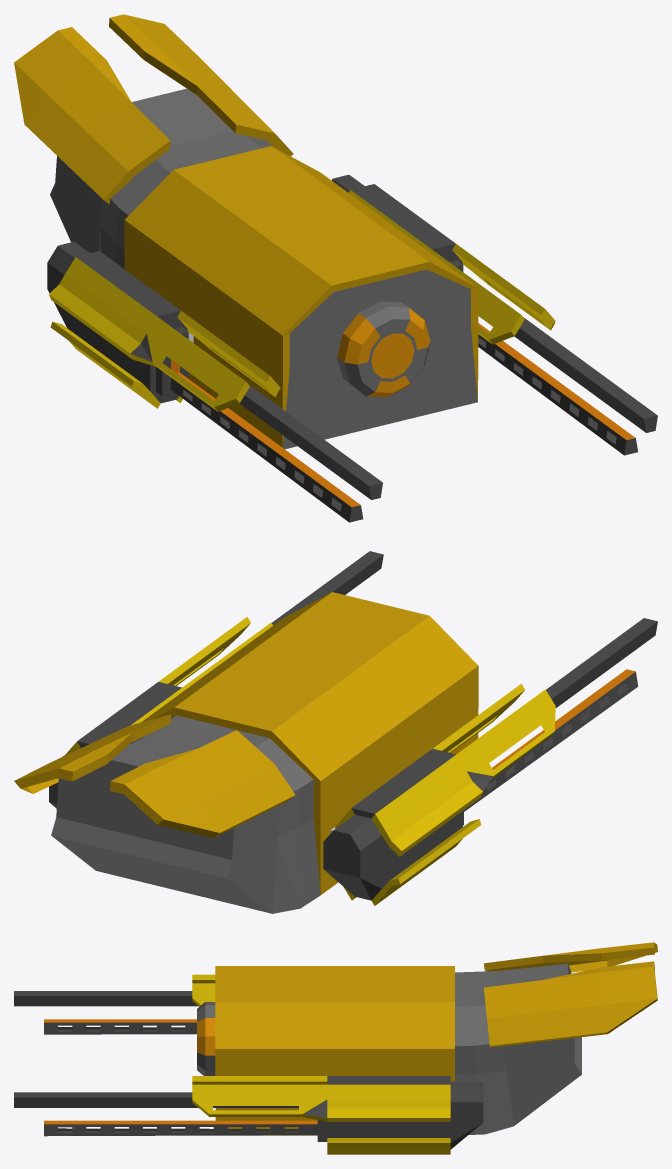
Rendered from EnemyStraightShot.fbx.
3 views of the same model, one above another, from view 1: azimuth 30°, elevation 25°; view 2: azimuth 150°, elevation 25°; view 3: azimuth 270°, elevation 25° (orthographic). The views are drawn at different scales.
Parts seen in each view (by area): view 1: Body, RightGun, LeftGun; view 2: Body, RightGun, LeftGun; view 3: Body, LeftGun, RightGun.
Part boxes in pixels (x1,y1,x2,y2): Body: (14, 14, 478, 449); RightGun: (47, 241, 382, 522); LeftGun: (331, 174, 657, 455); Body: (14, 592, 478, 913); RightGun: (323, 618, 657, 905); LeftGun: (49, 551, 383, 808); Body: (197, 942, 657, 1135); LeftGun: (14, 1076, 483, 1154); RightGun: (14, 974, 215, 1034).
Size of the model in its own units: 85.69 by 44.67 by 179.
